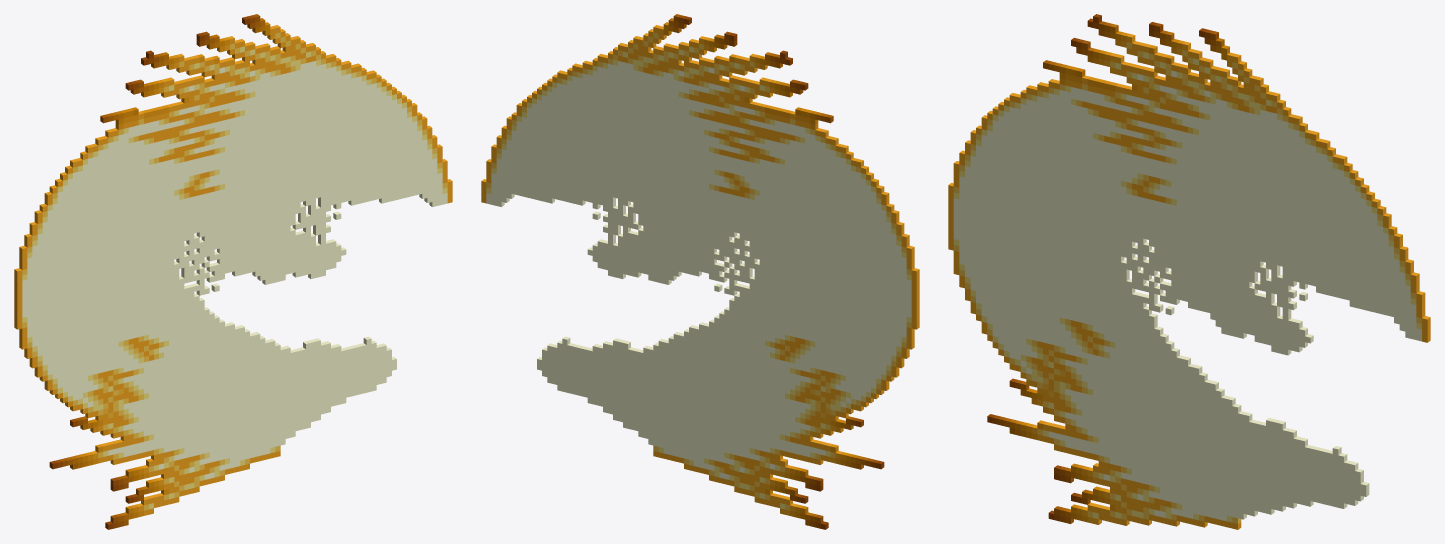
The model's file is Fight_217_2_05_fx.obj.
The picture shows the model from 3 angles, left to right: view 1: azimuth 30°, elevation 25°; view 2: azimuth 150°, elevation 25°; view 3: azimuth 330°, elevation 25°; orthographic projection. The views are drawn at different scales.
Bounding box in the file's own units: 8.6 × 9 × 0.1.
